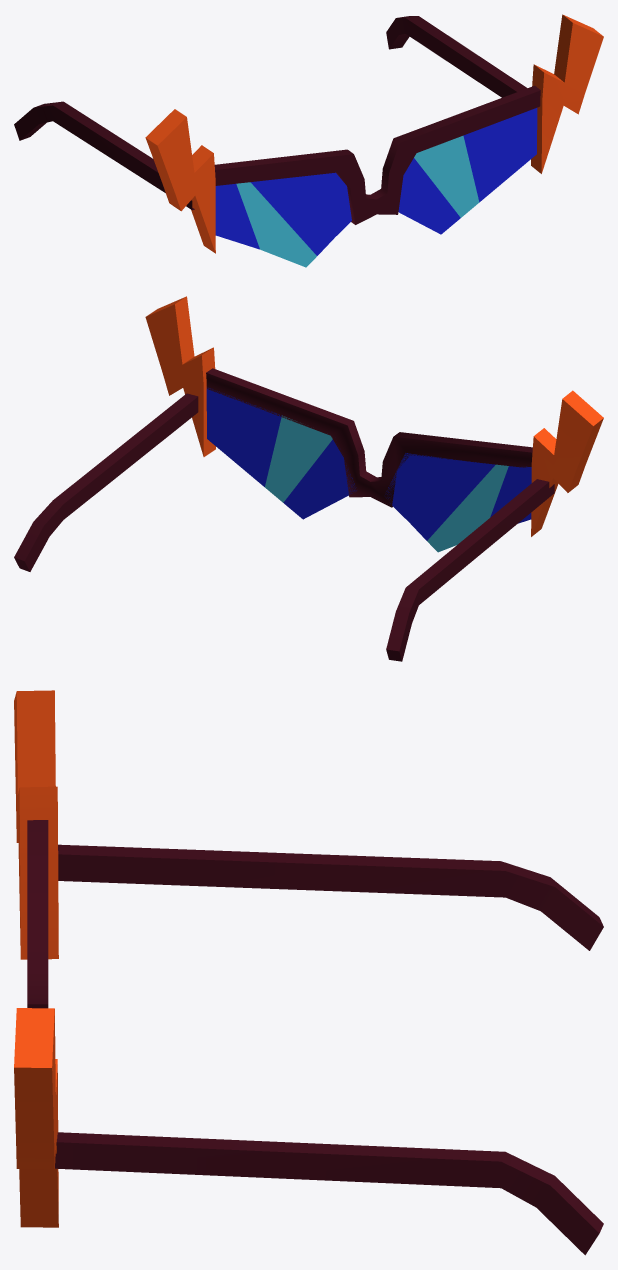
Rendered from lightning_glasses.fbx.
3 renders of one model, top to bottom at view 1: azimuth 30°, elevation 25°; view 2: azimuth 150°, elevation 25°; view 3: azimuth 270°, elevation 25°, orthographic. The views are drawn at different scales.
Visible parts, largest first — view 1: lightning_glasses.c, Glasses_stick_04, Glasses_stick_05; view 2: lightning_glasses.c, Glasses_stick_05, Glasses_stick_04; view 3: lightning_glasses.c, Glasses_stick_05, Glasses_stick_04.
Part boxes in pixels (box(x1,y1,x2,y2)): lightning_glasses.c: box(145, 14, 603, 267); Glasses_stick_04: box(14, 101, 194, 210); Glasses_stick_05: box(386, 16, 527, 97); lightning_glasses.c: box(145, 296, 603, 552); Glasses_stick_05: box(14, 393, 198, 571); Glasses_stick_04: box(386, 479, 554, 661); lightning_glasses.c: box(14, 690, 58, 1227); Glasses_stick_05: box(55, 1132, 603, 1255); Glasses_stick_04: box(58, 844, 603, 950).
Bounding box in the file's own units: 0.8218 × 0.3258 × 0.5572.
